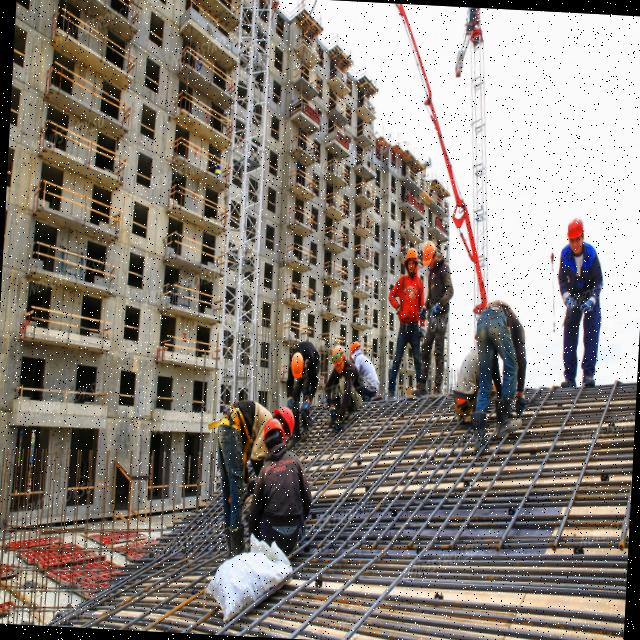Helmet: (274, 408, 296, 440), (264, 420, 287, 443), (568, 218, 587, 242), (422, 241, 437, 270), (292, 354, 306, 383), (333, 347, 347, 368), (406, 250, 420, 264), (351, 341, 361, 357)
NoJacket: (260, 446, 304, 542), (562, 244, 598, 318), (228, 403, 273, 443), (400, 268, 424, 328), (429, 259, 450, 326), (335, 367, 361, 400)
